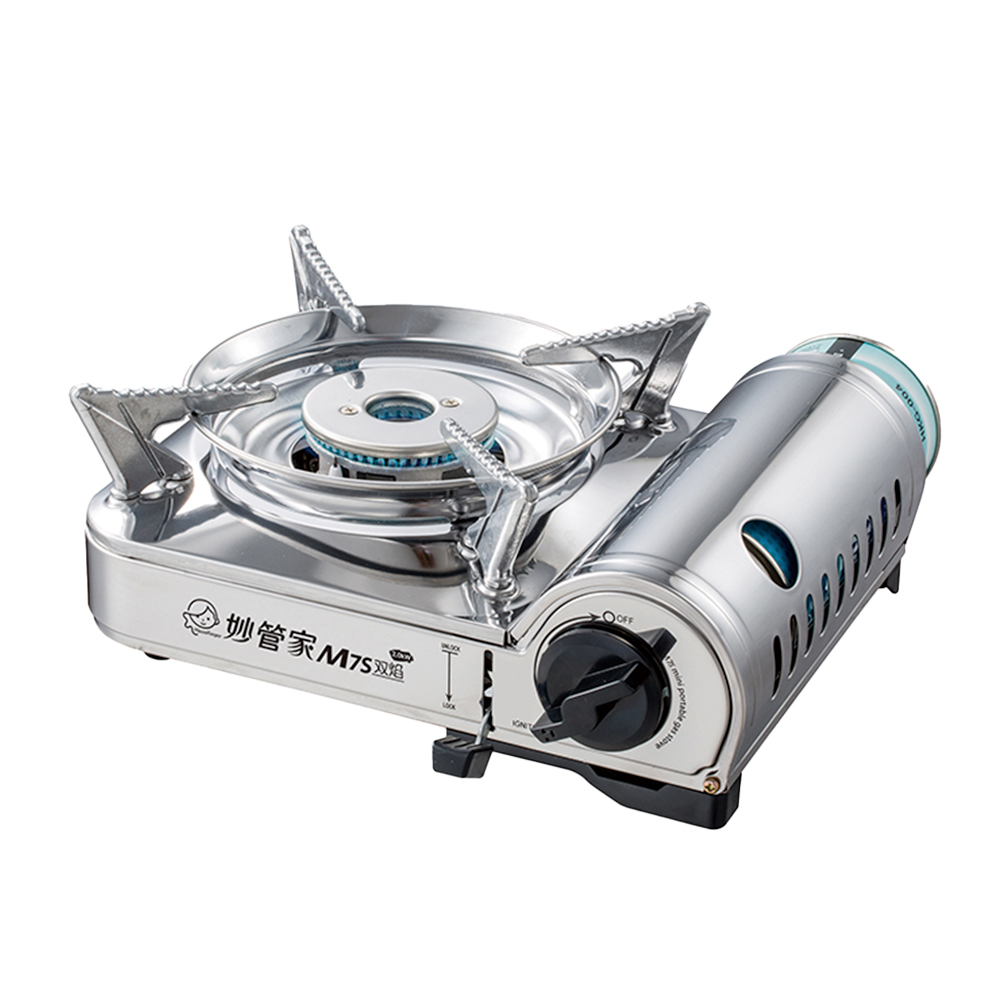gasoven: (62, 205, 945, 843)
